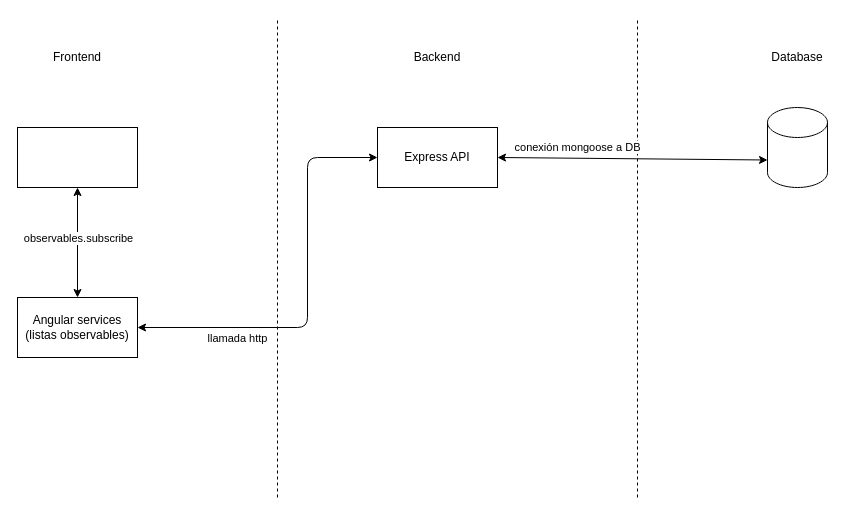
The diagram is 845 pixels wide and 516 high, and some of its shapes have lost their labels. Each missing label, with the box of its shape:
Angular components: (16, 126, 138, 188)
MongoDB database: (766, 106, 828, 188)
